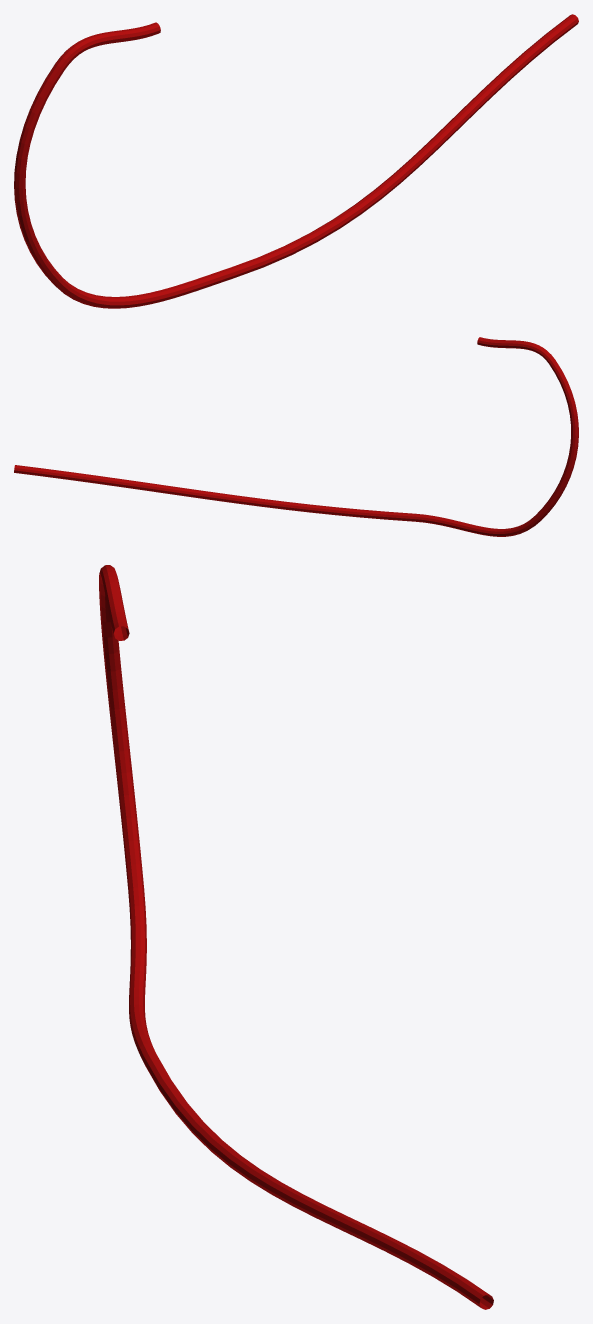
Rendered from power_harness_positive.dae.
The picture shows the model from 3 angles, top to bottom: view 1: azimuth 30°, elevation 25°; view 2: azimuth 150°, elevation 25°; view 3: azimuth 270°, elevation 25°; orthographic projection. The views are drawn at different scales.
Visible parts, largest first — view 1: power_harness_positive; view 2: power_harness_positive; view 3: power_harness_positive.
Part boxes in pixels (box(x1,y1,x2,y2)): power_harness_positive: box(14, 14, 578, 308); power_harness_positive: box(14, 337, 578, 536); power_harness_positive: box(99, 565, 493, 1309).
Bounding box in the file's own units: 0.0747 × 0.027 × 0.0299.
